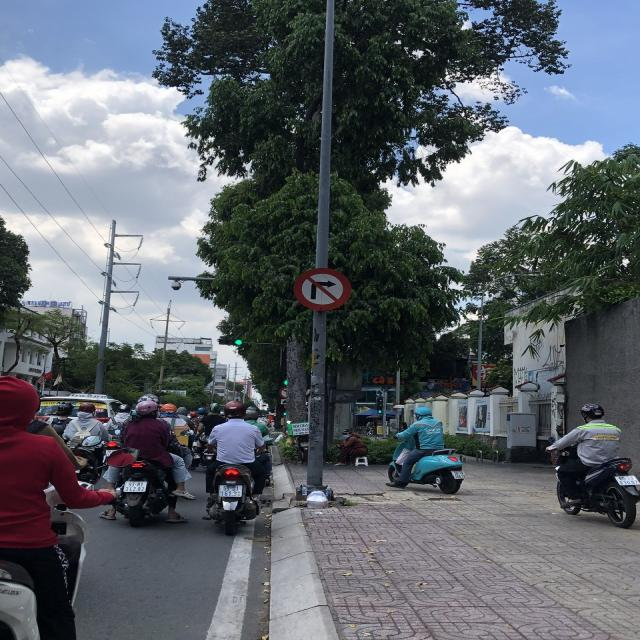Bien bao cam re phai: (291, 263, 355, 313)
